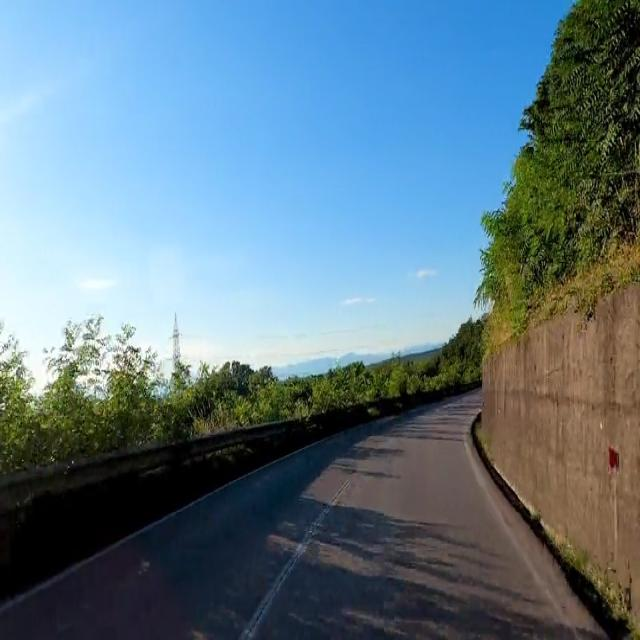lane: (0, 390, 605, 638), (239, 480, 349, 639)
road: (0, 390, 605, 638)
